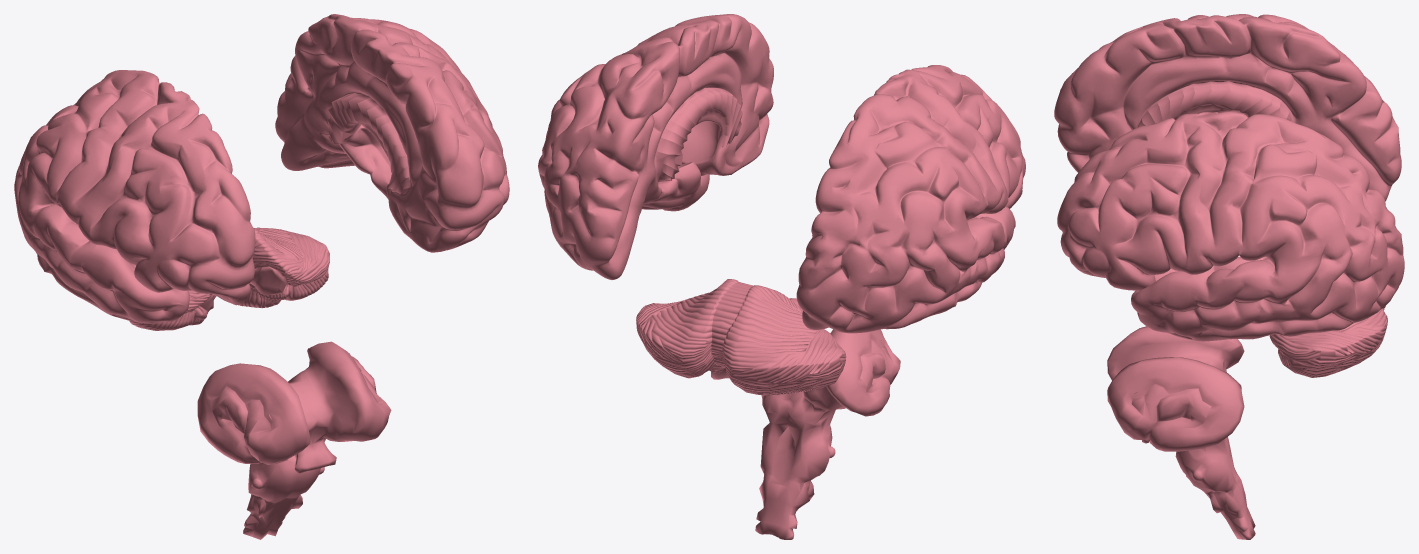
File: brain.fbx
3 renders of one model, left to right at view 1: azimuth 30°, elevation 25°; view 2: azimuth 150°, elevation 25°; view 3: azimuth 270°, elevation 25°, orthographic. The views are drawn at different scales.
Visible parts, largest first — view 1: Brain_Part_06, Brain_Part_04, Brain_Part_05, Brain_Part_02; view 2: Brain_Part_06, Brain_Part_04, Brain_Part_02, Brain_Part_05; view 3: Brain_Part_04, Brain_Part_06, Brain_Part_05, Brain_Part_02.
Boxes of the visible parts, x1,y1,x2,y2 form: Brain_Part_06: (14, 70, 255, 323); Brain_Part_04: (275, 14, 509, 252); Brain_Part_05: (197, 341, 391, 539); Brain_Part_02: (129, 227, 329, 330); Brain_Part_06: (796, 65, 1025, 333); Brain_Part_04: (538, 14, 773, 279); Brain_Part_02: (636, 279, 846, 395); Brain_Part_05: (711, 298, 900, 539); Brain_Part_04: (1057, 111, 1404, 341); Brain_Part_06: (1054, 14, 1401, 201); Brain_Part_05: (1107, 326, 1255, 539); Brain_Part_02: (1269, 305, 1387, 377).
Size of the model in its own units: 657 by 702 by 475.
